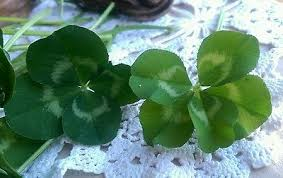4-clover: (135, 31, 271, 153), (6, 33, 144, 146)
